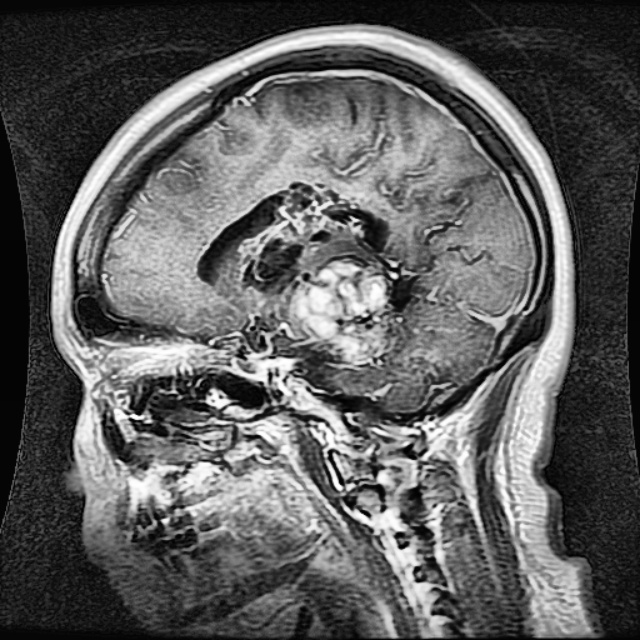Meningioma: (239, 175, 417, 372)
